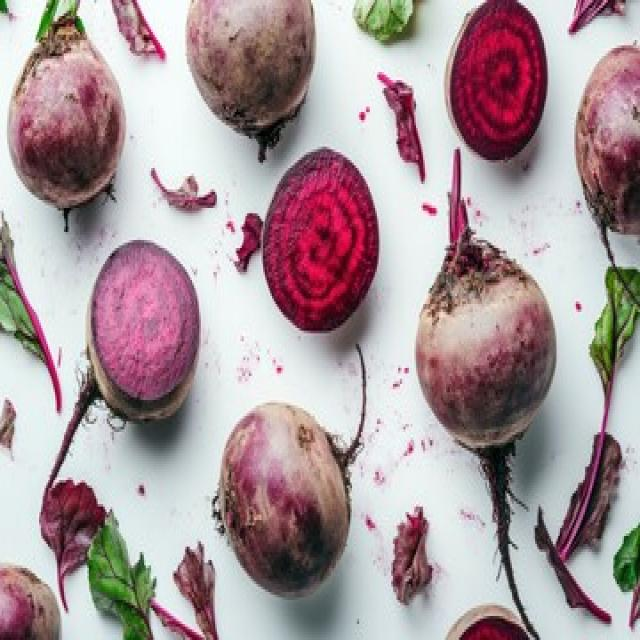Beetroot: (414, 147, 556, 450), (210, 342, 366, 598), (5, 3, 124, 229), (261, 144, 379, 331), (183, 0, 315, 160), (442, 0, 548, 160), (572, 40, 638, 235), (534, 504, 612, 624), (0, 562, 60, 637), (441, 603, 542, 637), (149, 165, 217, 211), (233, 211, 261, 272)
Carrot: (375, 70, 425, 182), (107, 0, 165, 59), (0, 0, 16, 19)
Garlic: (567, 0, 638, 32)
